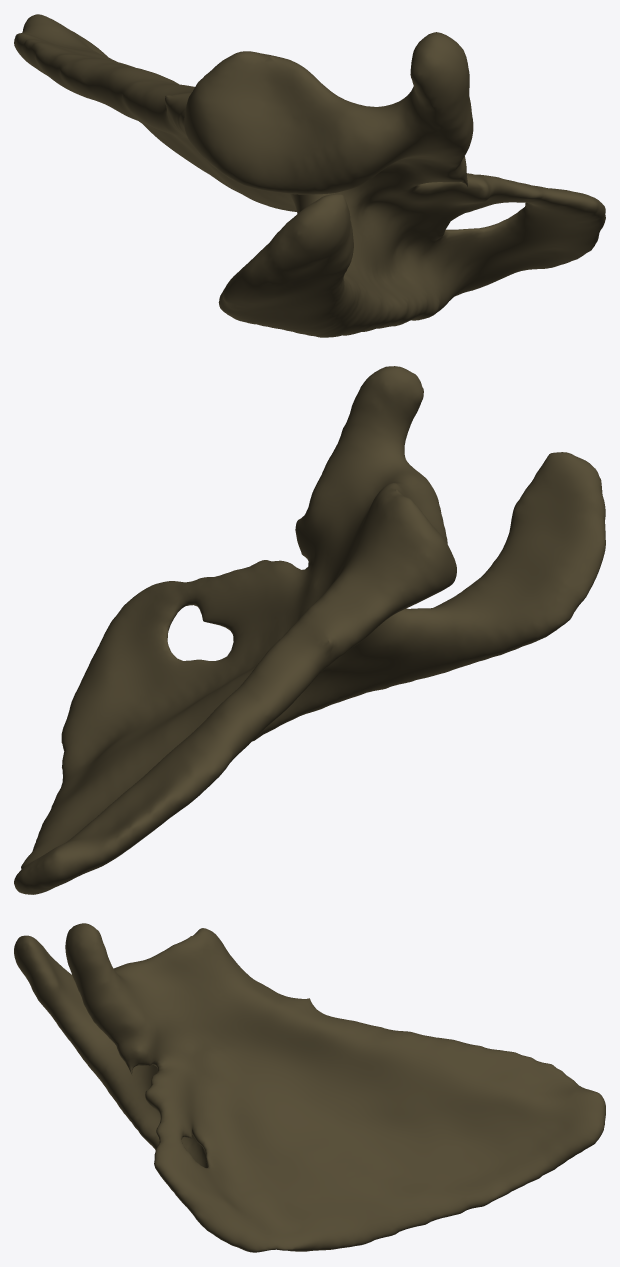
Rendered from segmentations_scapula_left.obj.
The picture shows the model from 3 angles, top to bottom: view 1: azimuth 30°, elevation 25°; view 2: azimuth 150°, elevation 25°; view 3: azimuth 270°, elevation 25°; orthographic projection. The views are drawn at different scales.
Visible parts, largest first — view 1: grp1; view 2: grp1; view 3: grp1.
Boxes of the visible parts, x1,y1,x2,y2 form: grp1: [14, 14, 605, 337]; grp1: [14, 366, 605, 894]; grp1: [14, 923, 605, 1252].
Size of the model in its own units: 69.51 by 57.64 by 116.
